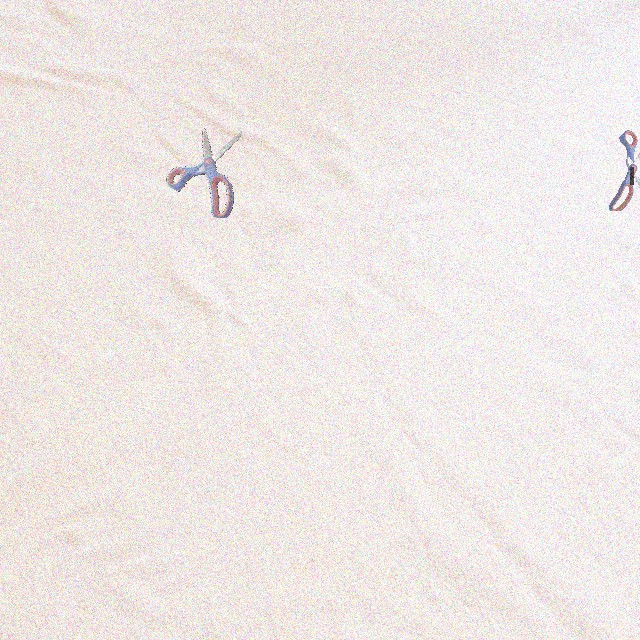scissors: (166, 128, 242, 218), (609, 130, 640, 211)
